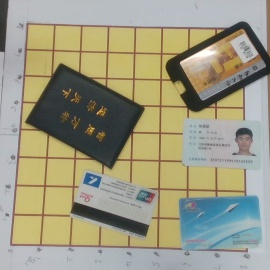card: (165, 20, 270, 109), (73, 168, 158, 240), (176, 192, 263, 253), (180, 116, 262, 172)
